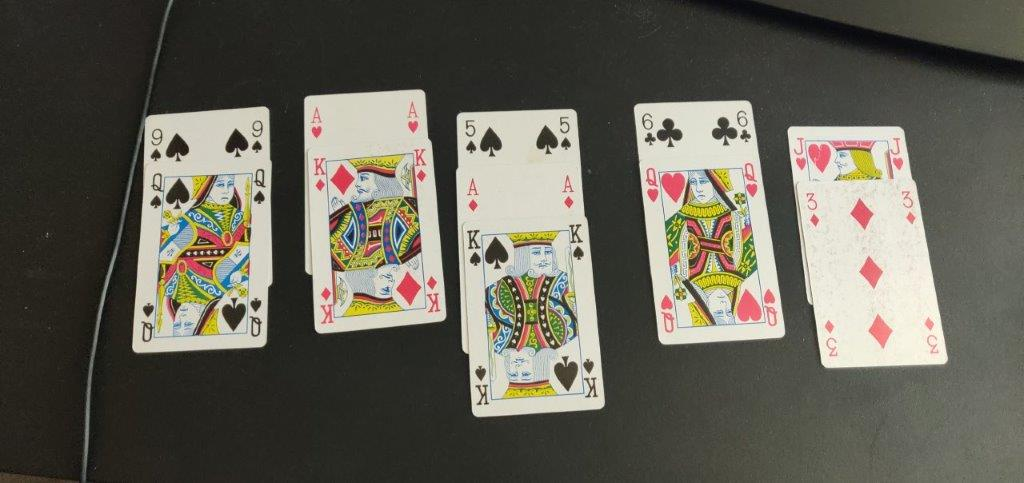3D: (898, 187, 921, 229), (802, 190, 824, 233)
5S: (460, 119, 479, 158), (555, 115, 575, 152)
6C: (731, 107, 754, 146), (637, 111, 659, 147)
9S: (144, 123, 165, 161), (249, 116, 268, 158)
AD: (463, 173, 482, 215), (559, 170, 576, 209)
AH: (398, 98, 422, 133), (306, 103, 327, 141)
JH: (884, 133, 909, 172), (790, 133, 810, 175)
KD: (308, 154, 331, 193), (408, 146, 429, 188)
KS: (463, 227, 485, 272), (567, 221, 587, 263)
QH: (639, 164, 665, 211), (741, 159, 761, 202)
QS: (146, 170, 166, 211), (250, 168, 271, 207)
